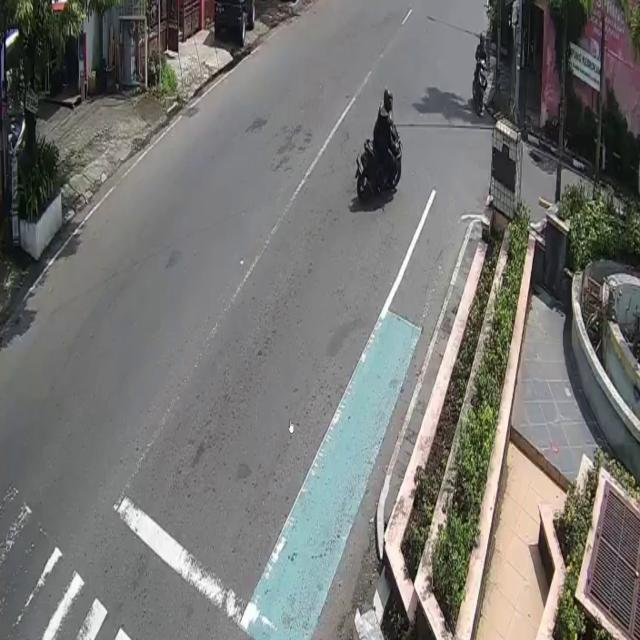bus: (357, 120, 403, 202), (474, 58, 486, 116)
